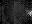person: (26, 10, 31, 16)
